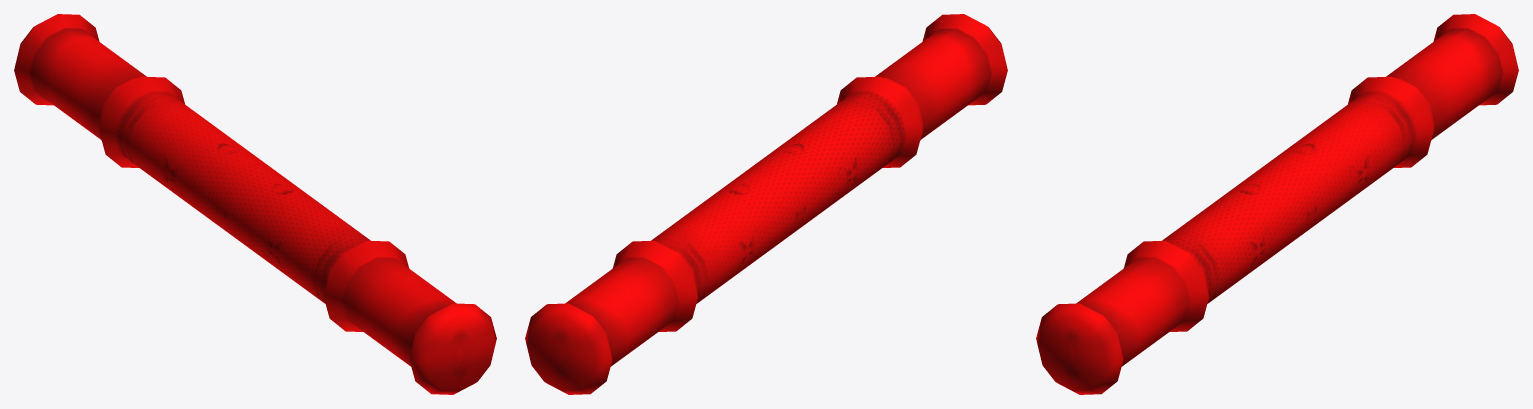
The model's file is M_MonkeymaceB.glb.
3 renders of one model, left to right at view 1: azimuth 30°, elevation 25°; view 2: azimuth 150°, elevation 25°; view 3: azimuth 330°, elevation 25°, orthographic.
Visible parts, largest first — view 1: SM_Monkeymace; view 2: SM_Monkeymace; view 3: SM_Monkeymace.
Boxes of the visible parts, bbox=[...] form: SM_Monkeymace: bbox=[14, 14, 496, 394]; SM_Monkeymace: bbox=[525, 14, 1007, 394]; SM_Monkeymace: bbox=[1036, 14, 1518, 394].
Size of the model in its own units: 0.0912 by 0.0912 by 0.7398.
Materials: 1 (1 with a texture image).
